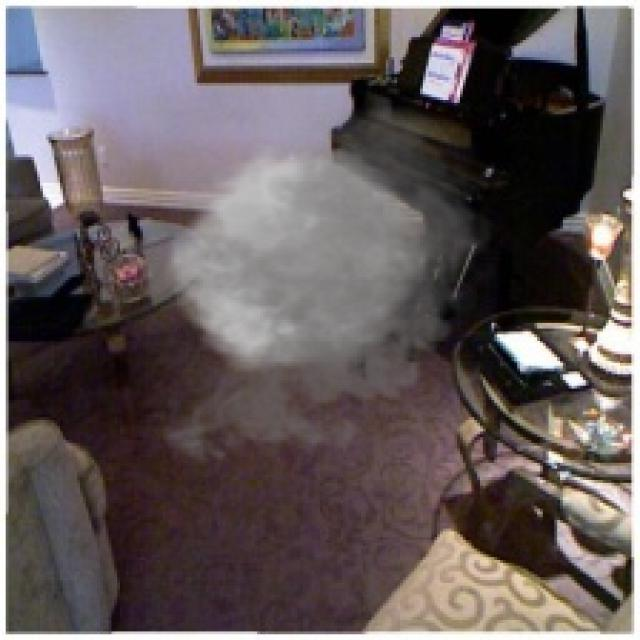smoke: (94, 92, 506, 474)
